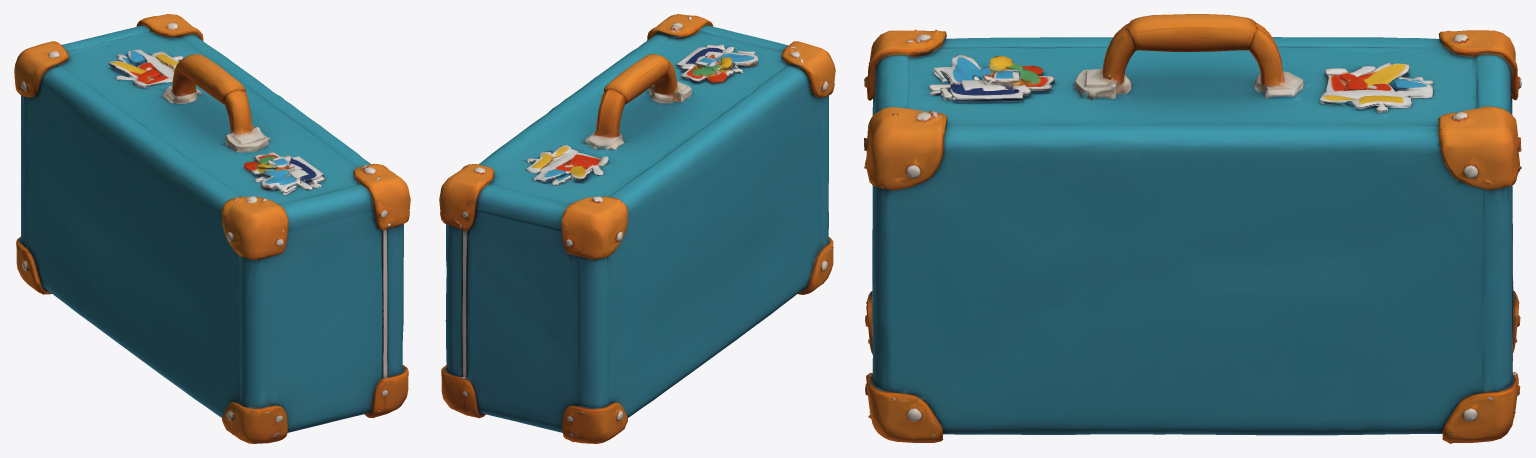
The model's file is suitcase.glb.
3 renders of one model, left to right at view 1: azimuth 30°, elevation 25°; view 2: azimuth 150°, elevation 25°; view 3: azimuth 270°, elevation 25°, orthographic. The views are drawn at different scales.
Parts seen in each view (by area): view 1: tripo_node_ba2ba3eb-ad30-4474-aa7c-b3b4d18b7d24; view 2: tripo_node_ba2ba3eb-ad30-4474-aa7c-b3b4d18b7d24; view 3: tripo_node_ba2ba3eb-ad30-4474-aa7c-b3b4d18b7d24.
Part boxes in pixels (x1,y1,x2,y2): tripo_node_ba2ba3eb-ad30-4474-aa7c-b3b4d18b7d24: [14, 14, 410, 443]; tripo_node_ba2ba3eb-ad30-4474-aa7c-b3b4d18b7d24: [439, 14, 835, 443]; tripo_node_ba2ba3eb-ad30-4474-aa7c-b3b4d18b7d24: [864, 14, 1521, 443].
Size of the model in its own units: 0.4141 by 0.6438 by 1.
1 material, 1 textured.
